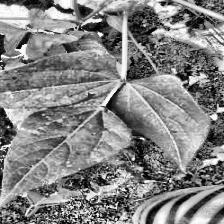ALS: (13, 106, 126, 180), (0, 50, 113, 105), (145, 113, 212, 146)
